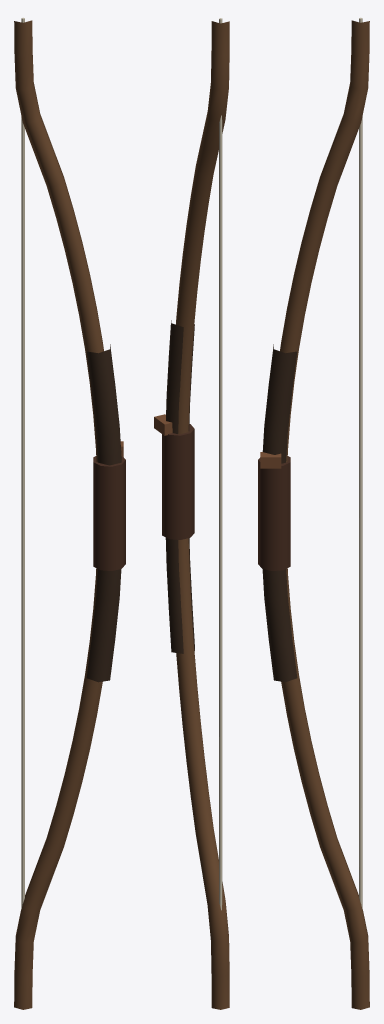
Rendered from shortbow.glb.
3 views of the same model, side by side, from view 1: azimuth 90°, elevation 25°; view 2: azimuth 210°, elevation 25°; view 3: azimuth 270°, elevation 25° (orthographic).
Visible parts, largest first — view 1: shortbow-limb, shortbow-limb-belly, shortbow-grip-wrap, shortbow-string; view 2: shortbow-limb, shortbow-grip-wrap, shortbow-limb-belly, shortbow-string, shortbow-arrow-rest; view 3: shortbow-limb, shortbow-limb-belly, shortbow-grip-wrap, shortbow-string, shortbow-arrow-rest.
Part boxes in pixels (left/top/right/bottom): shortbow-limb: left=14, top=20, right=103, bottom=1009; shortbow-limb-belly: left=86, top=344, right=121, bottom=682; shortbow-grip-wrap: left=93, top=456, right=125, bottom=570; shortbow-string: left=21, top=17, right=24, bottom=909; shortbow-limb: left=176, top=21, right=229, bottom=1009; shortbow-grip-wrap: left=162, top=424, right=194, bottom=539; shortbow-limb-belly: left=165, top=320, right=194, bottom=653; shortbow-string: left=219, top=18, right=222, bottom=910; shortbow-arrow-rest: left=154, top=414, right=172, bottom=435; shortbow-limb: left=280, top=20, right=369, bottom=1009; shortbow-limb-belly: left=262, top=344, right=297, bottom=682; shortbow-grip-wrap: left=258, top=456, right=290, bottom=570; shortbow-string: left=359, top=17, right=362, bottom=909; shortbow-arrow-rest: left=260, top=452, right=281, bottom=468.
Size of the model in its own units: 0.0263 by 0.8094 by 0.083.
